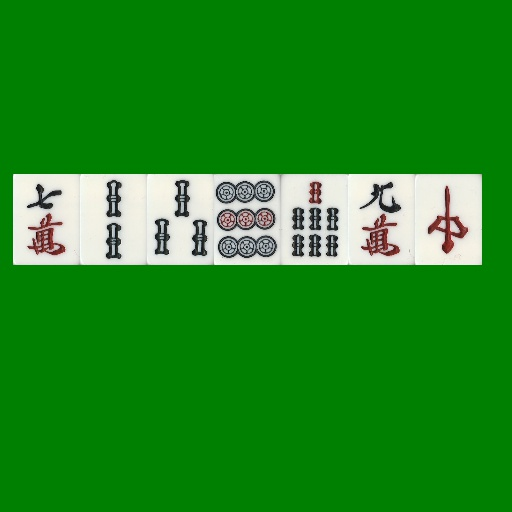2s: (80, 174, 147, 265)
3s: (147, 174, 214, 265)
7m: (13, 174, 80, 265)
7s: (281, 174, 348, 265)
9m: (348, 174, 415, 265)
9p: (214, 174, 281, 265)
tyun: (415, 174, 482, 265)
